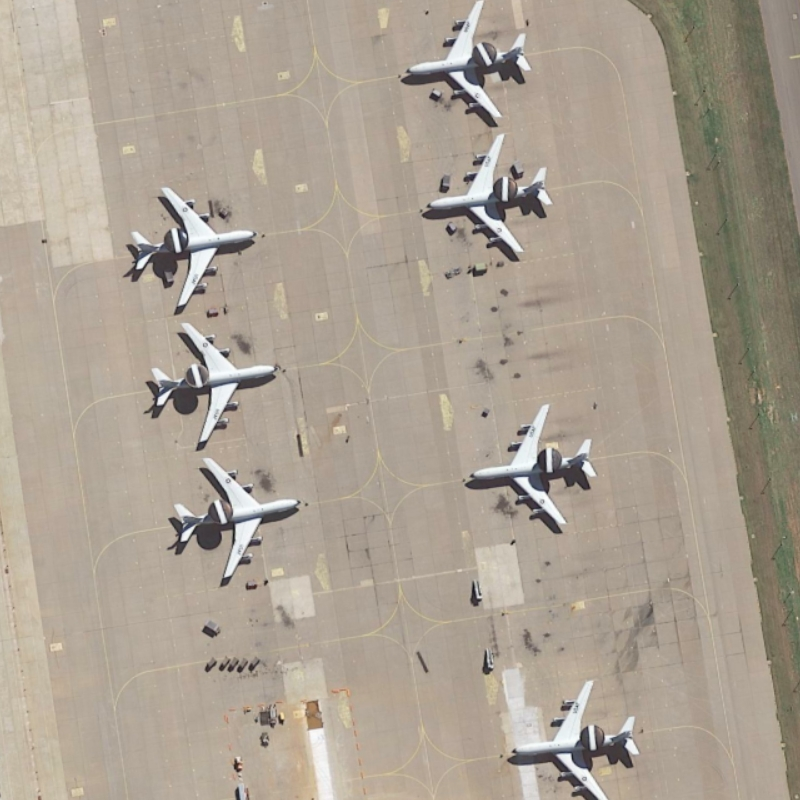A7: (164, 450, 303, 593), (414, 127, 552, 266), (461, 397, 596, 534), (127, 185, 266, 316), (146, 317, 280, 451), (504, 672, 642, 800), (397, 1, 533, 128)
